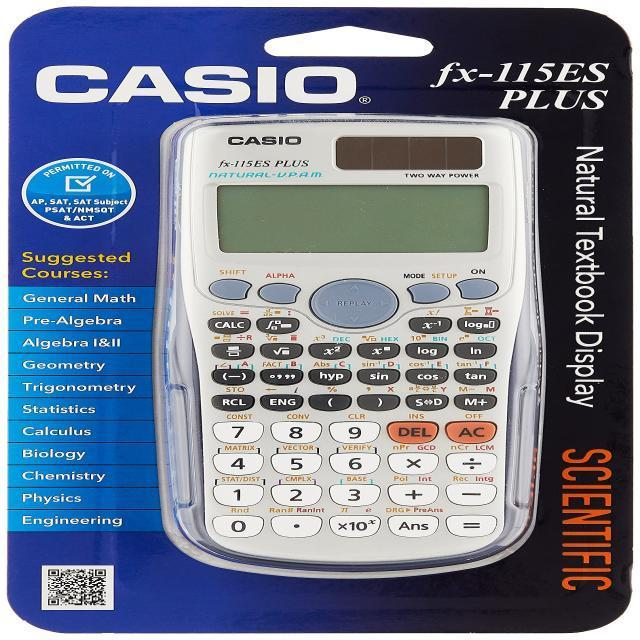Calculator: (166, 115, 544, 580)
